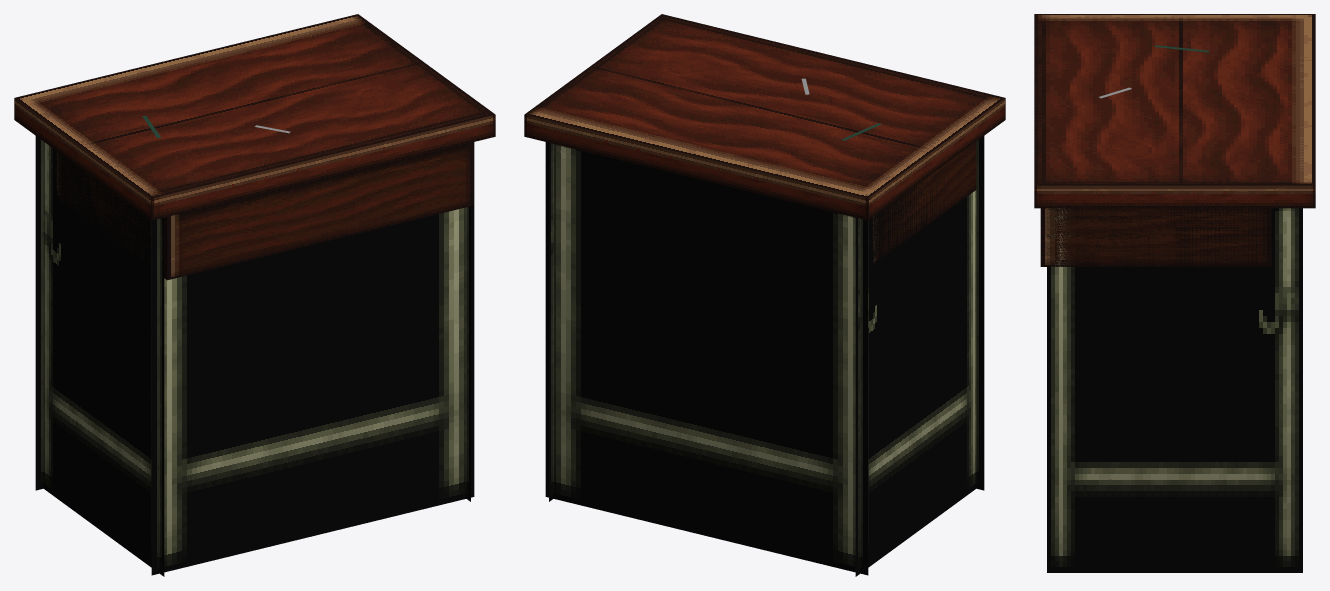
File: prop_desk-6.glb
The picture shows the model from 3 angles, left to right: view 1: azimuth 30°, elevation 25°; view 2: azimuth 150°, elevation 25°; view 3: azimuth 270°, elevation 25°; orthographic projection. The views are drawn at different scales.
Visible parts, largest first — view 1: prop_desk-6; view 2: prop_desk-6; view 3: prop_desk-6.
Part boxes in pixels (box(x1,y1,x2,y2)): prop_desk-6: box(14, 14, 495, 576); prop_desk-6: box(524, 14, 1005, 576); prop_desk-6: box(1034, 14, 1315, 572).
Size of the model in its own units: 0.6565 by 0.709 by 0.4545.
Materials: 4 (4 with a texture image).
